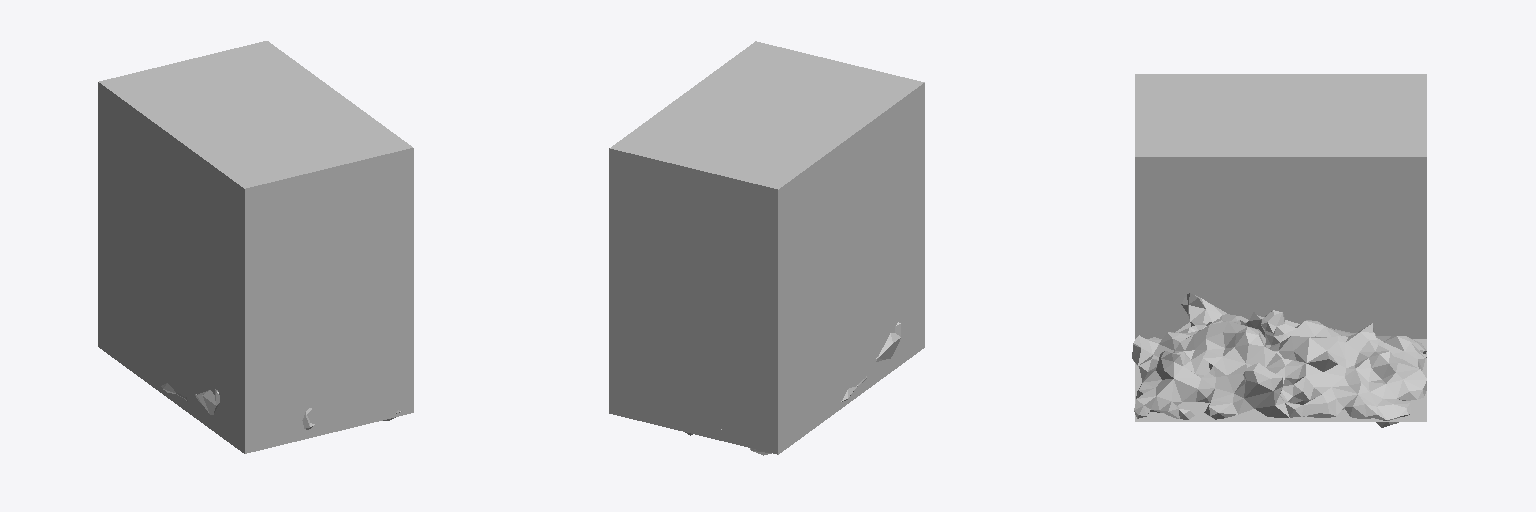
The model's file is frame5.obj.
3 renders of one model, left to right at view 1: azimuth 30°, elevation 25°; view 2: azimuth 150°, elevation 25°; view 3: azimuth 270°, elevation 25°, orthographic.
Visible parts, largest first — view 1: LeftWall, BackWall, Ceiling, Water_Mesh; view 2: RightWall, BackWall, Ceiling, Water_Mesh; view 3: BackWall, Water_Mesh, Ceiling, Floor.
Boxes of the visible parts, x1=… form: LeftWall: x1=245, y1=148, x2=413, y2=453; BackWall: x1=98, y1=82, x2=244, y2=453; Ceiling: x1=99, y1=41, x2=412, y2=188; Water_Mesh: x1=161, y1=383, x2=401, y2=429; RightWall: x1=609, y1=148, x2=777, y2=454; BackWall: x1=778, y1=83, x2=924, y2=454; Ceiling: x1=610, y1=41, x2=924, y2=189; Water_Mesh: x1=685, y1=322, x2=900, y2=455; BackWall: x1=1135, y1=157, x2=1426, y2=338; Water_Mesh: x1=1132, y1=293, x2=1426, y2=427; Ceiling: x1=1135, y1=74, x2=1426, y2=156; Floor: x1=1135, y1=339, x2=1426, y2=421.
Size of the model in its own units: 0.634 by 0.9557 by 0.9088.